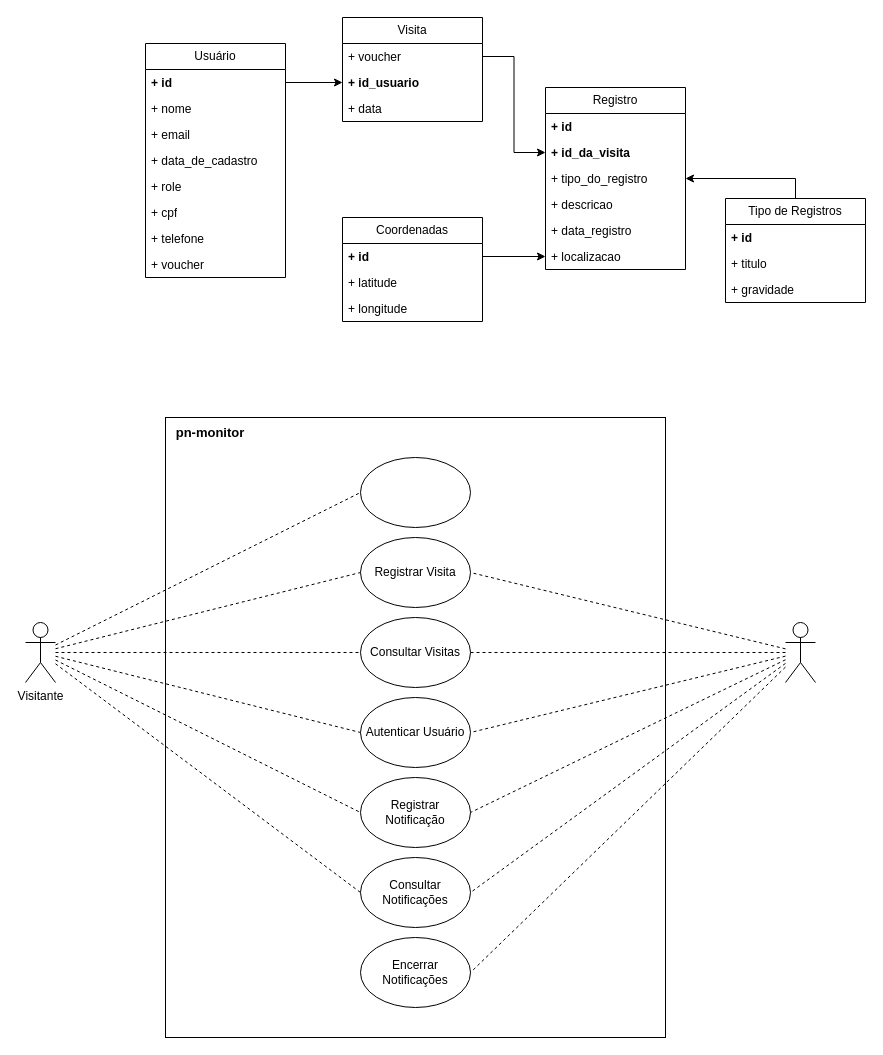
Image size: 883x1055. Some labels were removed from this diagram. The centre of each missing label's shape, as x and y in pixels:
Administrador: point (800, 652)
Registrar Usuário: point (415, 492)
